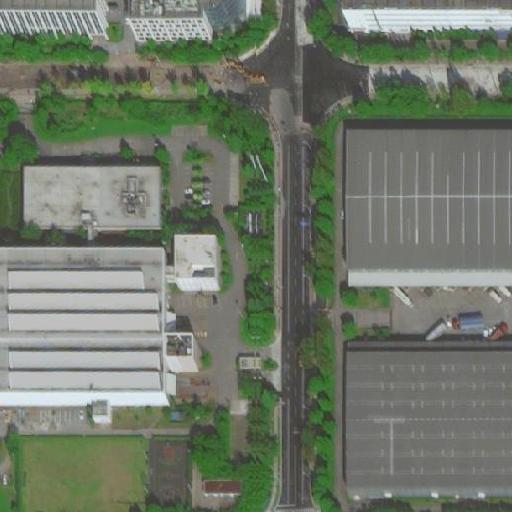building: (1, 246, 176, 412), (347, 344, 510, 496), (347, 131, 507, 278), (25, 163, 158, 227), (344, 3, 511, 35), (4, 2, 105, 32), (130, 4, 208, 42), (170, 232, 220, 289), (191, 465, 232, 483)
